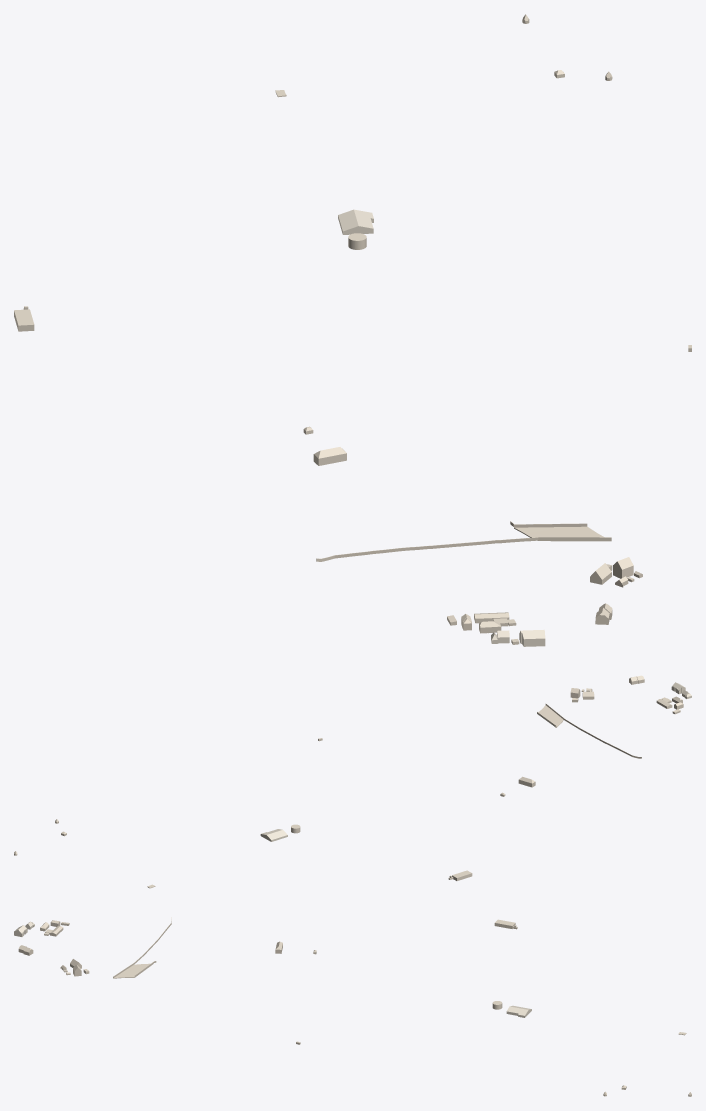
3 views of the same model, one above another, from view 1: azimuth 30°, elevation 25°; view 2: azimuth 150°, elevation 25°; view 3: azimuth 270°, elevation 25° (orthographic). The views are drawn at different scales.
Size of the model in its own units: 736 by 22.41 by 1162.
